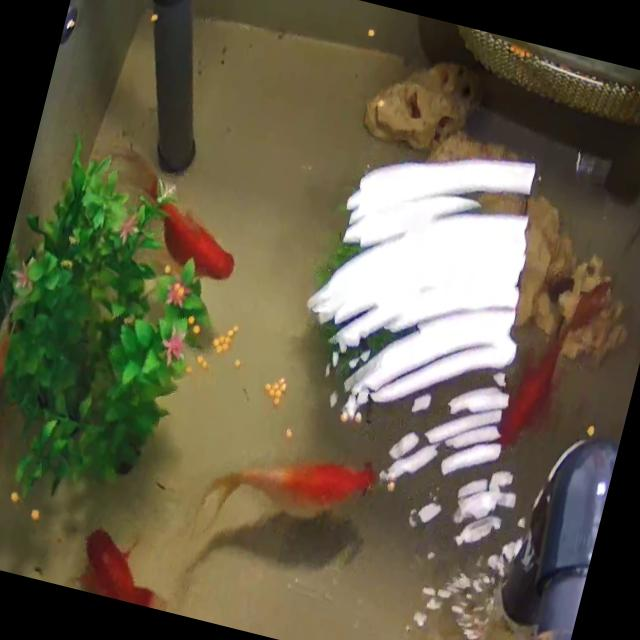fish: (201, 412, 395, 562), (80, 130, 258, 286), (496, 273, 610, 462), (71, 516, 215, 619), (0, 322, 30, 560), (0, 517, 14, 570)
